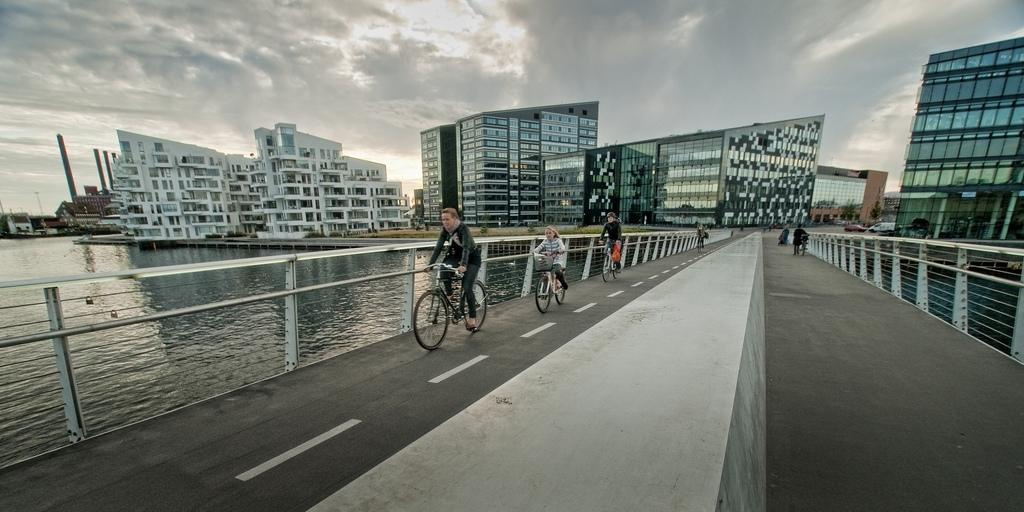non-vehicle: (411, 260, 486, 351), (527, 249, 566, 313), (595, 241, 621, 284), (797, 234, 809, 256), (695, 232, 704, 253)
